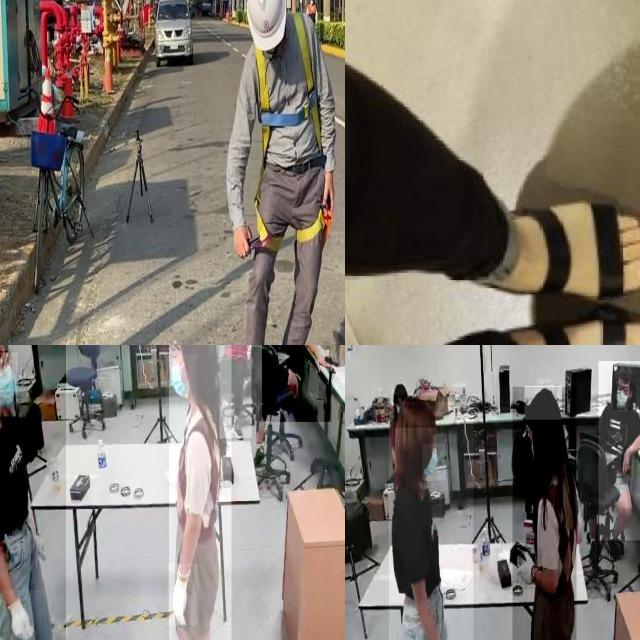Harness: (254, 13, 323, 160), (252, 210, 333, 254), (257, 216, 268, 234)
Sandals: (453, 196, 640, 312)
face_mask: (165, 354, 197, 407), (0, 352, 17, 416), (422, 444, 446, 481), (613, 383, 635, 410)
hand_glove: (3, 590, 41, 640), (168, 564, 198, 626), (516, 548, 542, 590)
hand_noglove: (315, 353, 331, 373), (621, 446, 631, 474)
head_nohelmet: (394, 396, 436, 428), (524, 386, 562, 420), (615, 366, 633, 380), (391, 382, 407, 395)
person: (389, 402, 474, 640), (0, 345, 66, 640), (169, 345, 232, 640), (512, 387, 577, 640), (598, 360, 640, 541), (262, 345, 332, 423), (219, 345, 252, 438)
